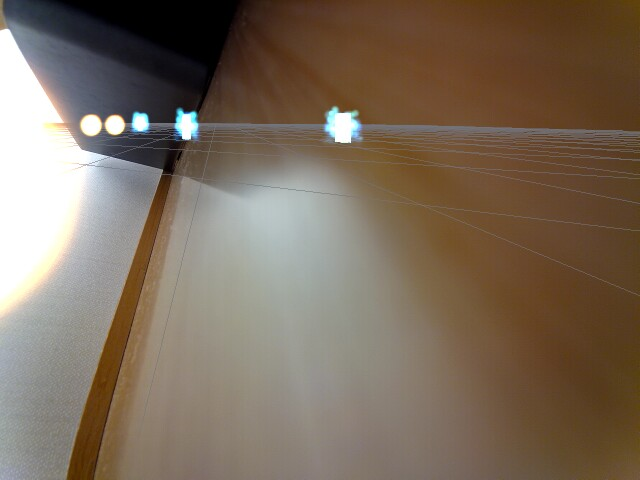firebig: (0, 69, 79, 318)
